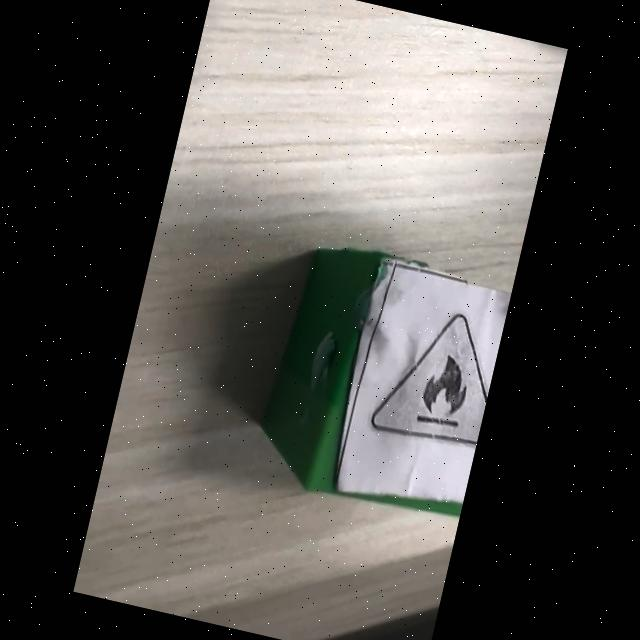Fire: (370, 313, 488, 446)
